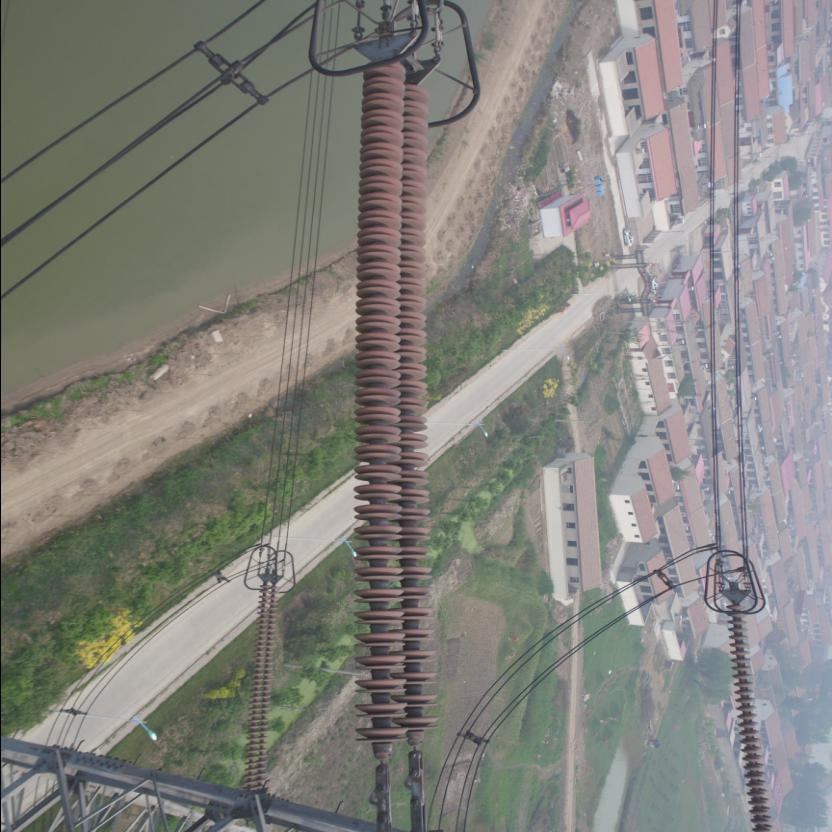insulator: (352, 48, 442, 809), (723, 598, 774, 832), (238, 581, 285, 793)
